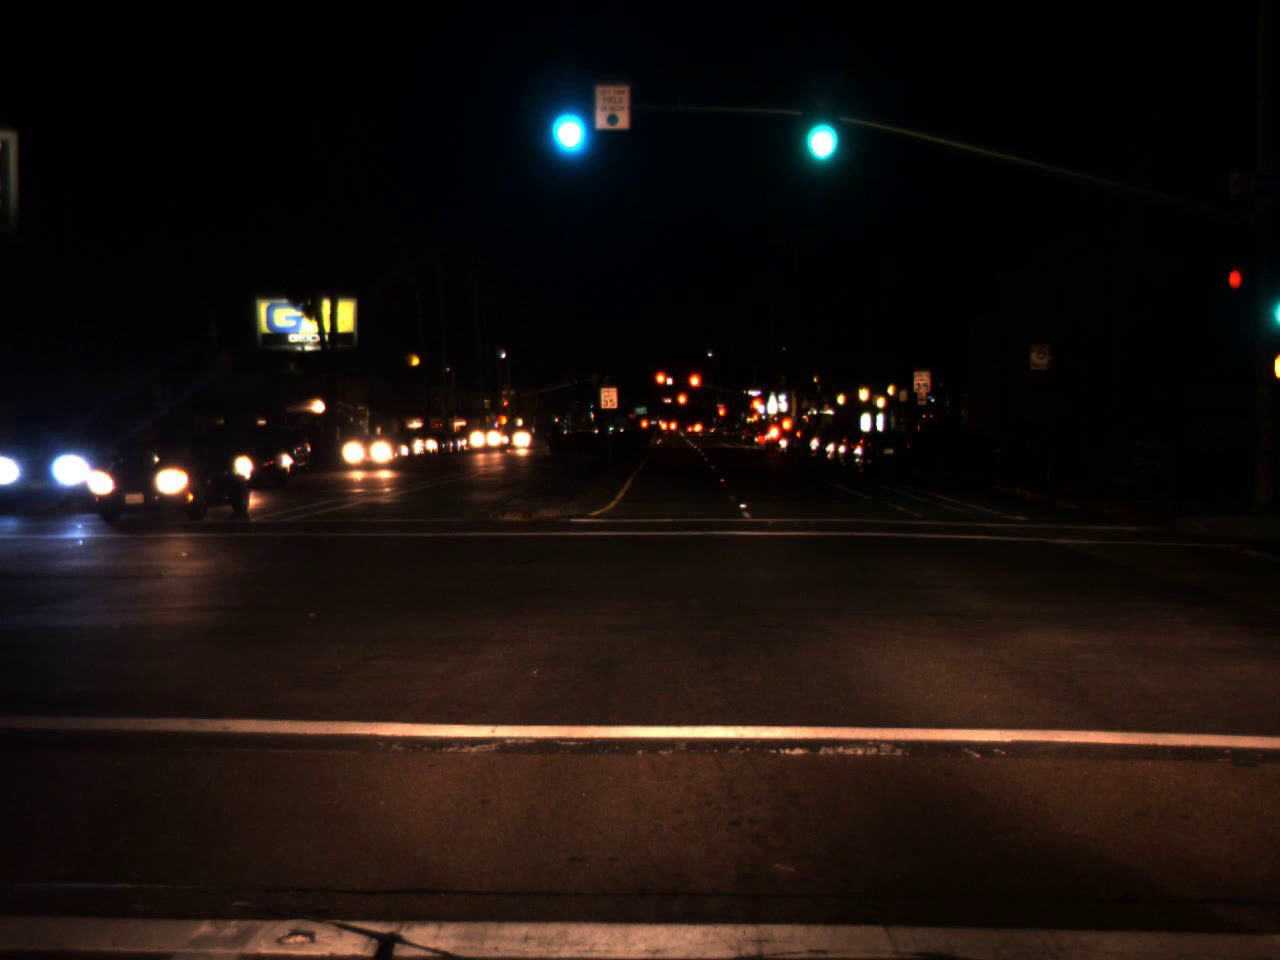go: (796, 84, 841, 171), (547, 86, 586, 158)
stop: (653, 369, 669, 401), (686, 371, 702, 403), (748, 396, 764, 425), (675, 391, 688, 418), (716, 402, 728, 431), (503, 400, 509, 410)
